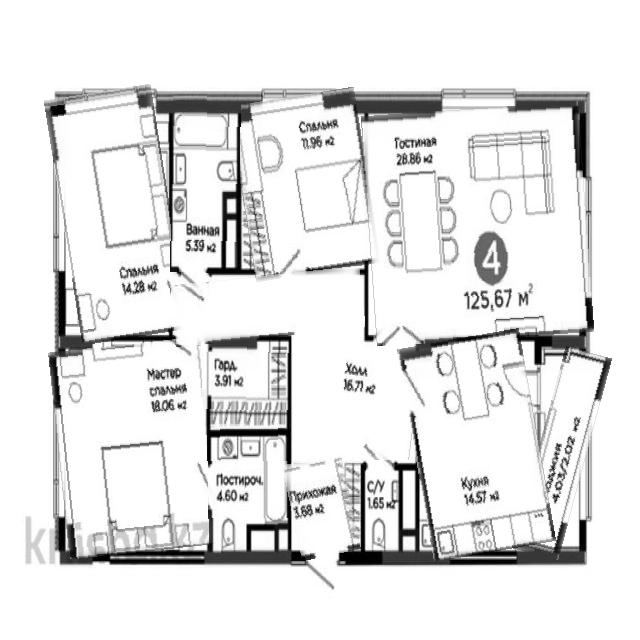balcony: (525, 348, 599, 559)
bathroom: (171, 95, 241, 273), (208, 425, 290, 554), (358, 460, 419, 552)
hallway: (295, 341, 419, 460), (171, 272, 364, 342), (287, 456, 357, 558)
kitchen: (406, 332, 547, 558)
living_room: (365, 104, 590, 343), (53, 341, 216, 555), (54, 88, 180, 342), (234, 92, 374, 278)
other: (202, 333, 291, 428)
